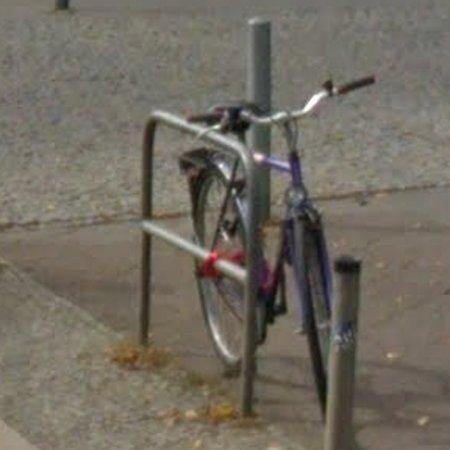bicycles: (142, 76, 374, 414)
